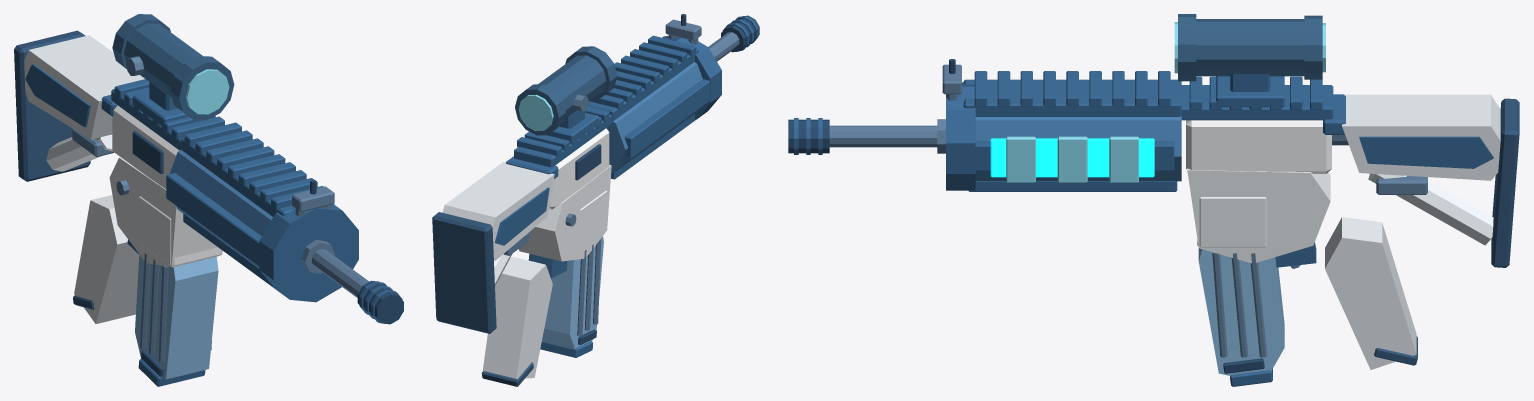
File: FutureM4.glb
The picture shows the model from 3 angles, left to right: view 1: azimuth 30°, elevation 25°; view 2: azimuth 150°, elevation 25°; view 3: azimuth 270°, elevation 25°; orthographic projection. The views are drawn at different scales.
Visible parts, largest first — view 1: StaticMesh; view 2: StaticMesh; view 3: StaticMesh, EnergyGlow, EnergyCell_01, EnergyCell_00, EnergyCell_02.
Boxes of the visible parts, bbox=[...] form: StaticMesh: bbox=[14, 14, 403, 386]; StaticMesh: bbox=[432, 14, 759, 386]; StaticMesh: bbox=[788, 14, 1519, 386]; EnergyGlow: bbox=[990, 138, 1154, 177]; EnergyCell_01: bbox=[1057, 136, 1087, 182]; EnergyCell_00: bbox=[1006, 136, 1035, 182]; EnergyCell_02: bbox=[1109, 136, 1138, 182].
Bounding box in the file's own units: 0.1923 × 0.6896 × 1.28.
